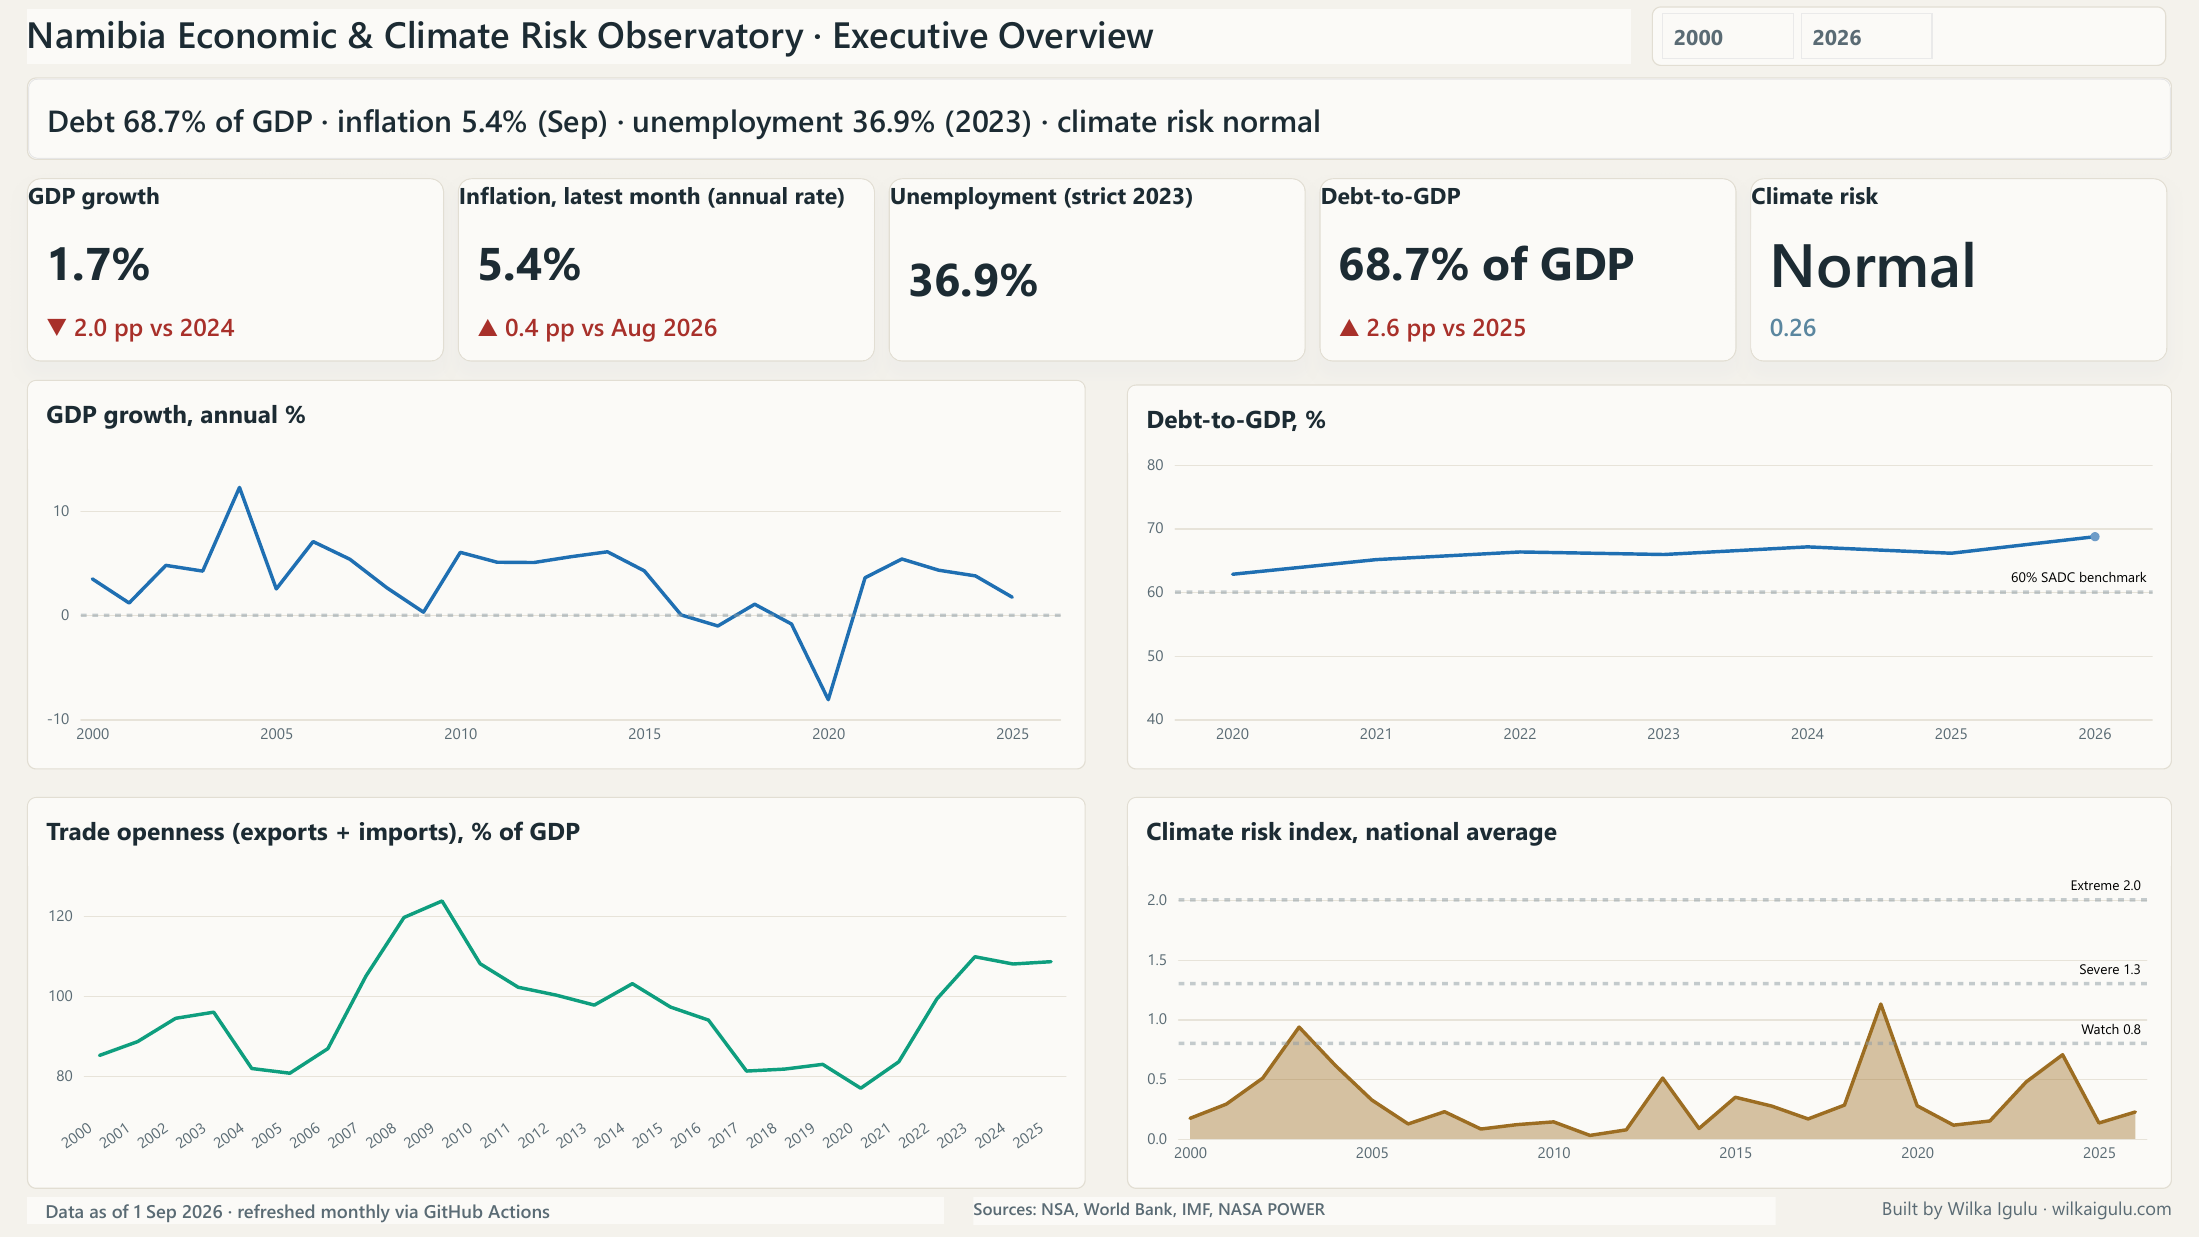

The page's visual inventory and layout, read from the dashboard file:
{"tool":"powerbi","page":{"name":"Executive Overview","canvas":[1920,1080],"ordinal":0},"visuals":[{"type":"cardVisual","title":"GDP growth","fields":{"Data":["Measure Table.Latest Value Formatted"]},"box":[24,156,364,160],"z":0},{"type":"cardVisual","title":"Inflation, latest month (annual rate)","fields":{"Data":["Measure Table.Latest Value Formatted"]},"box":[400,156,364,160],"z":1000},{"type":"cardVisual","title":"Unemployment (strict 2023)","fields":{"Data":["Measure Table.Latest Value Formatted"]},"box":[776,156,364,160],"z":2000},{"type":"cardVisual","title":"Debt-to-GDP","fields":{"Data":["Measure Table.Latest Value Formatted"]},"box":[1152,156,364,160],"z":3000},{"type":"cardVisual","title":"Climate risk","fields":{"Data":["Measure Table.Risk Band"]},"box":[1528,156,364,160],"z":4000},{"type":"slicer","fields":{"Values":["dim_date.year"]},"box":[1442,6,449,52],"z":5000},{"type":"textbox","title":"Namibia Economic & Climate Risk Observatory · Executive Overview","box":[24,8,1400,48],"z":6000},{"type":"lineChart","title":"GDP growth, annual %","fields":{"Category":["dim_date.year"],"Y":["Measure Table.Value Actual"]},"box":[24,332,924,340],"z":7000},{"type":"lineChart","title":"Debt-to-GDP, % ","fields":{"Category":["dim_date.year"],"Y":["Measure Table.Value Actual","Measure Table.Value Forecast"]},"box":[984,336,912,336],"z":8000},{"type":"lineChart","title":"Trade openness (exports + imports), % of GDP","fields":{"Category":["dim_date.year"],"Y":["Measure Table.Value Actual"]},"box":[24,696,924,342],"z":9000},{"type":"areaChart","title":"Climate risk index, national average","fields":{"Category":["dim_date.year"],"Y":["Measure Table.Climate Risk"]},"box":[984,696,912,342],"z":10000},{"type":"cardVisual","fields":{"Data":["Measure Table.Executive Headline"]},"box":[24,68,1872,72],"z":11000},{"type":"cardVisual","fields":{"Data":["Measure Table.Data As Of"]},"box":[24,1045,800,24],"z":12000},{"type":"textbox","title":"Built by Wilka Igulu · wilkaigulu.com","box":[1200,1044,696,36],"z":13000},{"type":"textbox","title":"Sources: NSA, World Bank, IMF, NASA POWER ","box":[850,1045,700,24],"z":14000}]}

Visuals, with their boxes in screenshot pixels (x1, y1, x2, y2), scaled from the page's 1920x1080 canvas onto the 2199x1237 screenshot:
"GDP growth" cardVisual: [27, 179, 444, 362]
"Inflation, latest month (annual rate)" cardVisual: [458, 179, 875, 362]
"Unemployment (strict 2023)" cardVisual: [889, 179, 1306, 362]
"Debt-to-GDP" cardVisual: [1319, 179, 1736, 362]
"Climate risk" cardVisual: [1750, 179, 2167, 362]
slicer - dim_date.year: [1652, 7, 2166, 66]
"Namibia Economic & Climate Risk Observatory · Executive Overview" textbox: [27, 9, 1631, 64]
"GDP growth, annual %" lineChart: [27, 380, 1086, 770]
"Debt-to-GDP, % " lineChart: [1127, 385, 2172, 770]
"Trade openness (exports + imports), % of GDP" lineChart: [27, 797, 1086, 1189]
"Climate risk index, national average" areaChart: [1127, 797, 2172, 1189]
cardVisual - Measure Table.Executive Headline: [27, 78, 2172, 160]
cardVisual - Measure Table.Data As Of: [27, 1197, 944, 1224]
"Built by Wilka Igulu · wilkaigulu.com" textbox: [1374, 1196, 2172, 1236]
"Sources: NSA, World Bank, IMF, NASA POWER " textbox: [974, 1197, 1775, 1224]
